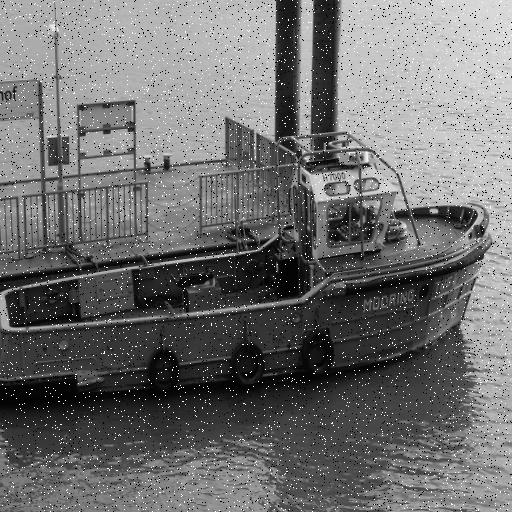tugboat: (1, 130, 496, 412)
